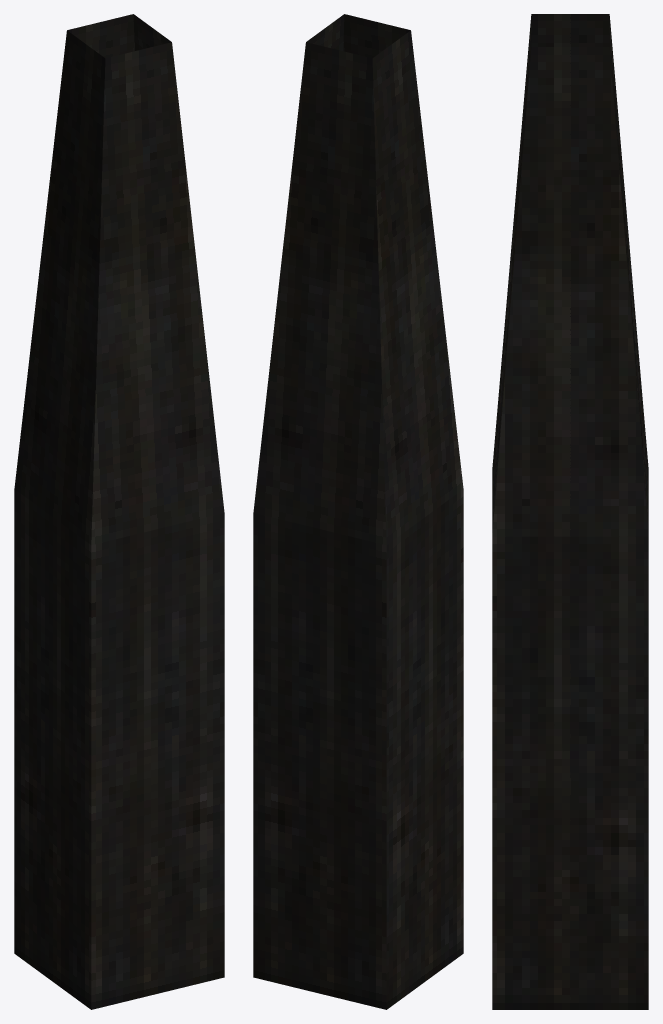
Rendered from column_2.glb.
The picture shows the model from 3 angles, left to right: view 1: azimuth 30°, elevation 25°; view 2: azimuth 150°, elevation 25°; view 3: azimuth 270°, elevation 25°; orthographic projection.
Visible parts, largest first — view 1: column_2; view 2: column_2; view 3: column_2.
Boxes of the visible parts, box(x1,y1,x2,y2) form: column_2: box(14, 14, 224, 1009); column_2: box(253, 14, 463, 1009); column_2: box(492, 14, 648, 1009).
Size of the model in its own units: 0.3 by 2 by 0.3.
1 material, 1 textured.
